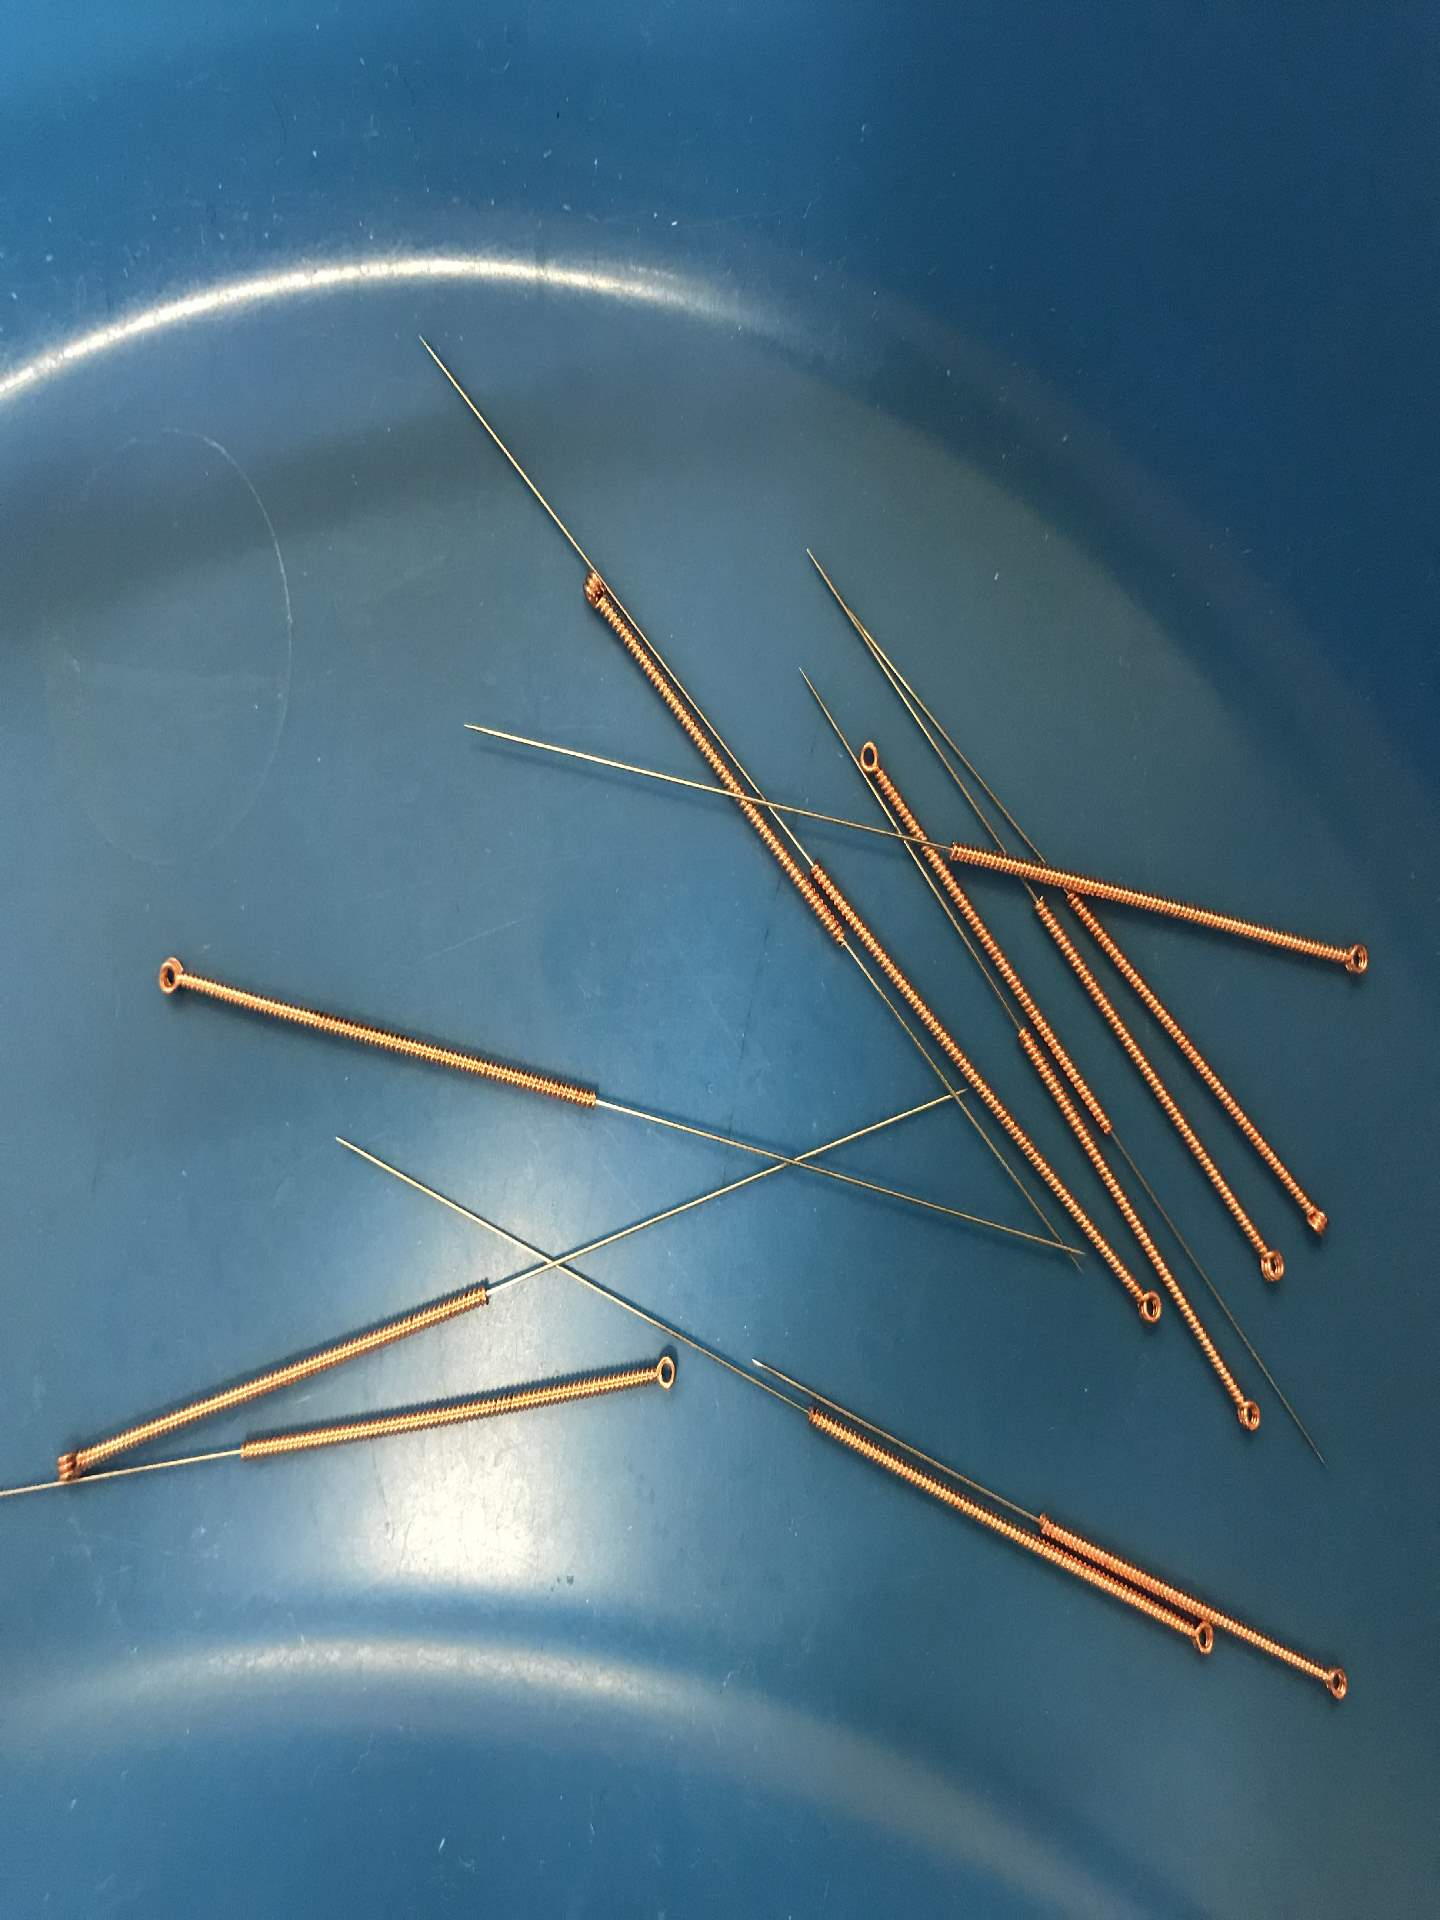needle: (142, 945, 201, 1010), (1289, 1184, 1340, 1250), (1240, 1232, 1293, 1296), (44, 1433, 98, 1494), (566, 562, 619, 624), (1327, 928, 1379, 989), (1224, 1385, 1272, 1447), (1122, 1277, 1169, 1339), (1310, 1652, 1358, 1711), (640, 1342, 688, 1400), (849, 730, 894, 791), (1175, 1615, 1221, 1665)
